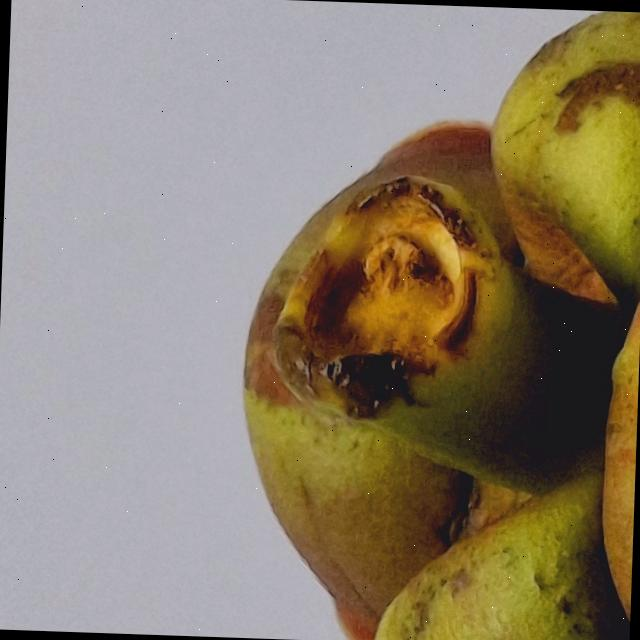mangosteen: (119, 0, 640, 640)
